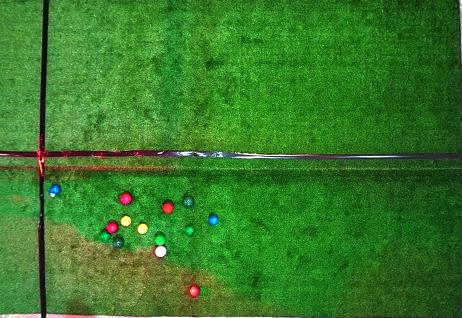blue: (208, 215, 219, 226), (50, 184, 61, 195)
green: (112, 237, 124, 249), (100, 229, 111, 242), (183, 196, 194, 208), (155, 234, 166, 245), (184, 225, 195, 236)
red: (120, 192, 133, 206), (162, 201, 174, 215), (106, 222, 119, 234), (189, 285, 200, 298), (154, 246, 167, 257)
vline: (1, 0, 49, 317), (456, 0, 461, 318)
white: (50, 193, 55, 197)
yellow: (137, 223, 149, 235), (120, 215, 132, 227)
